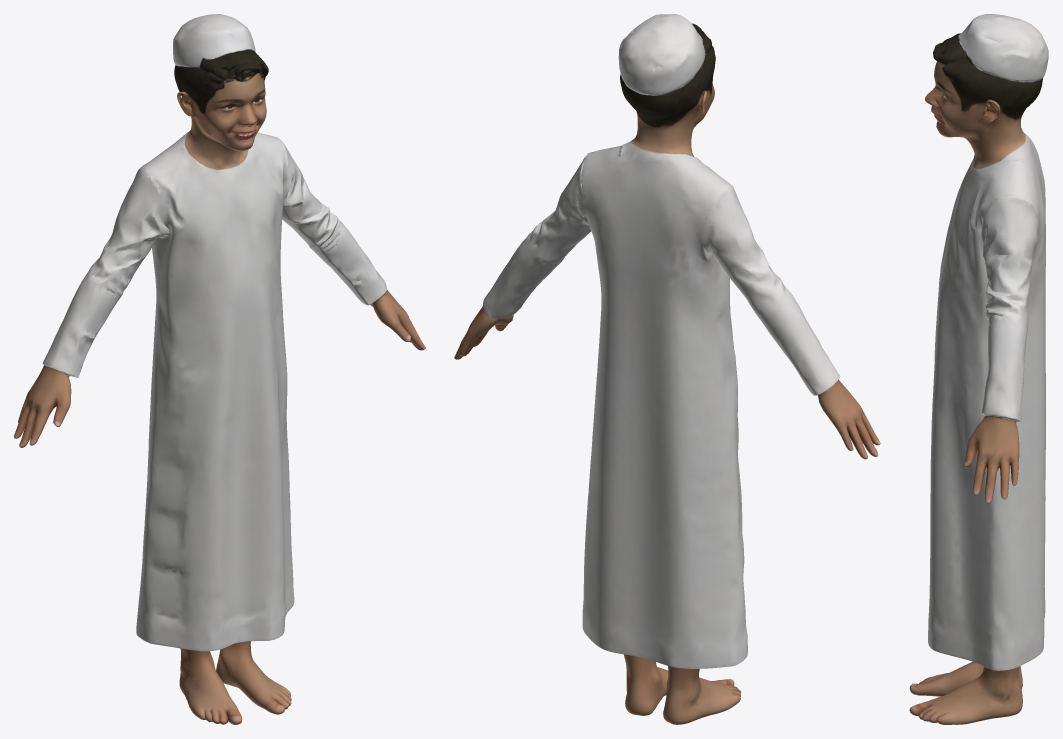
File: levi_enfant_1.glb
3 renders of one model, left to right at view 1: azimuth 30°, elevation 25°; view 2: azimuth 150°, elevation 25°; view 3: azimuth 270°, elevation 25°, orthographic. The views are drawn at different scales.
Visible parts, largest first — view 1: Mesh; view 2: Mesh; view 3: Mesh.
Boxes of the visible parts, x1,y1,x2,y2 form: Mesh: (14,14,425,724); Mesh: (454,14,880,724); Mesh: (909,14,1048,724).
Size of the model in its own units: 1.19 by 1.9 by 0.3483.
1 material, 1 textured.
